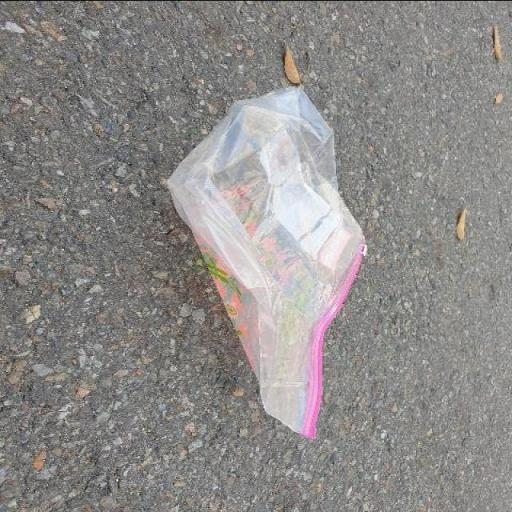plastic-bag: (162, 84, 372, 439)
